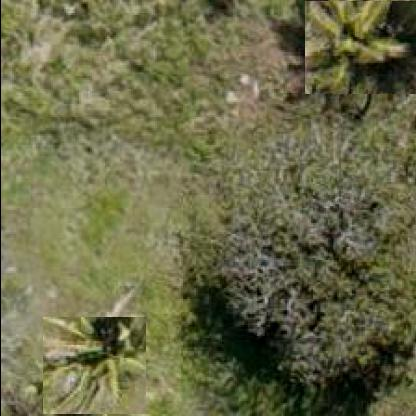coconut tree: (303, 1, 415, 95), (41, 318, 145, 416)
